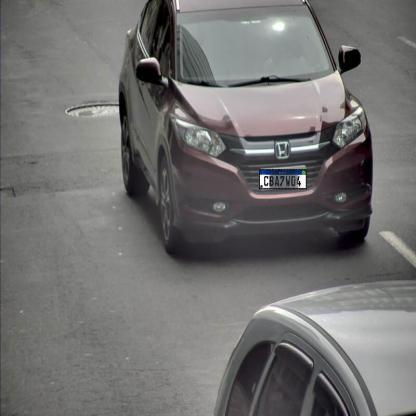PlacaM: (259, 169, 307, 189)
